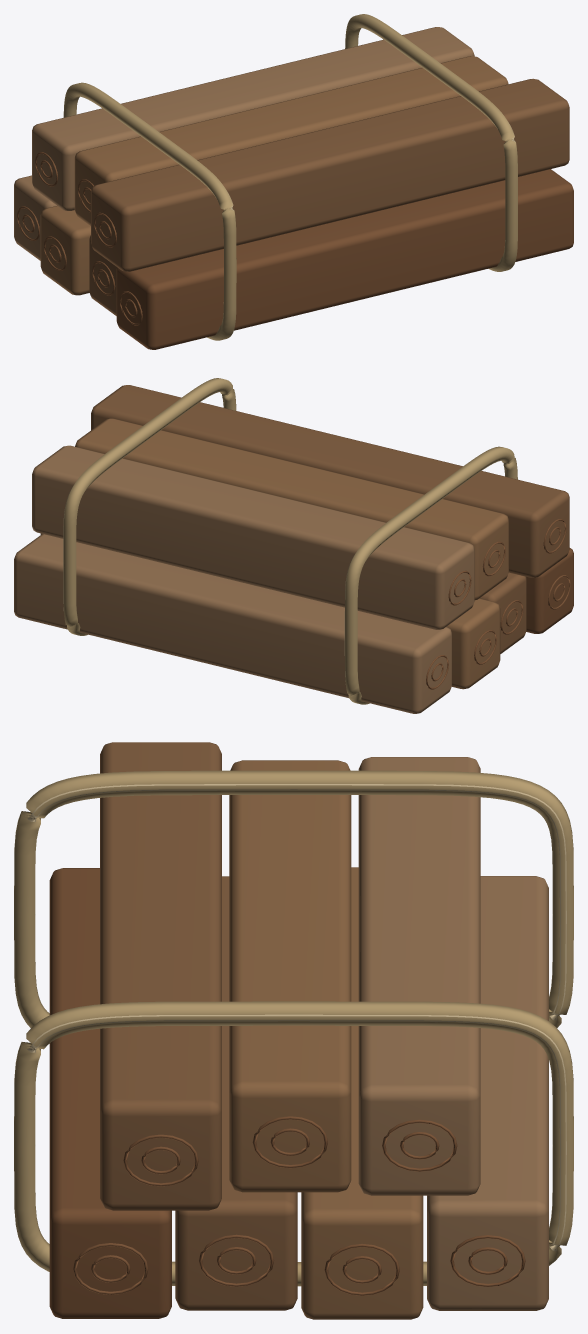
The model's file is wood.glb.
3 renders of one model, top to bottom at view 1: azimuth 30°, elevation 25°; view 2: azimuth 150°, elevation 25°; view 3: azimuth 270°, elevation 25°, orthographic. The views are drawn at different scales.
Visible parts, largest first — view 1: Cargo_wood; view 2: Cargo_wood; view 3: Cargo_wood.
Boxes of the visible parts, left/top/right/bottom form: Cargo_wood: left=14, top=14, right=573, bottom=349; Cargo_wood: left=14, top=378, right=573, bottom=713; Cargo_wood: left=14, top=742, right=573, bottom=1319.
Bounding box in the file's own units: 1.22 × 0.4294 × 0.7794.
